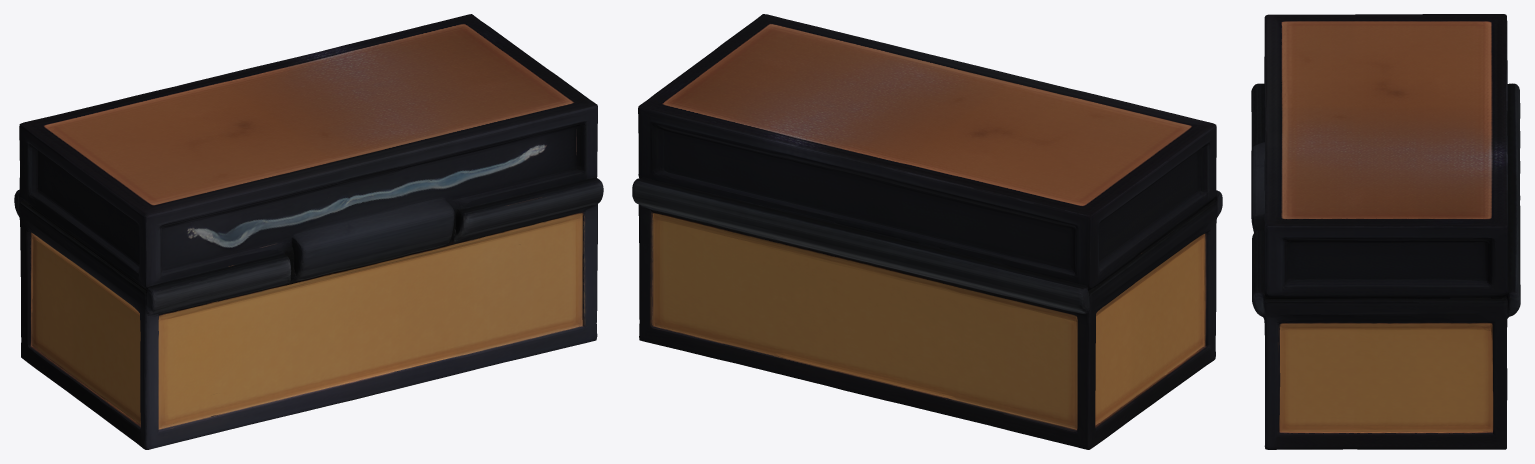
The picture shows the model from 3 angles, left to right: view 1: azimuth 30°, elevation 25°; view 2: azimuth 150°, elevation 25°; view 3: azimuth 270°, elevation 25°; orthographic projection. The views are drawn at different scales.
Parts seen in each view (by area): view 1: world; view 2: world; view 3: world.
Boxes of the visible parts, x1=… form: world: x1=14, y1=14, x2=603, y2=449; world: x1=632, y1=14, x2=1222, y2=449; world: x1=1251, y1=14, x2=1520, y2=449.
Bounding box in the file's own units: 0.9995 × 0.496 × 0.5366.
1 material, 1 textured.
